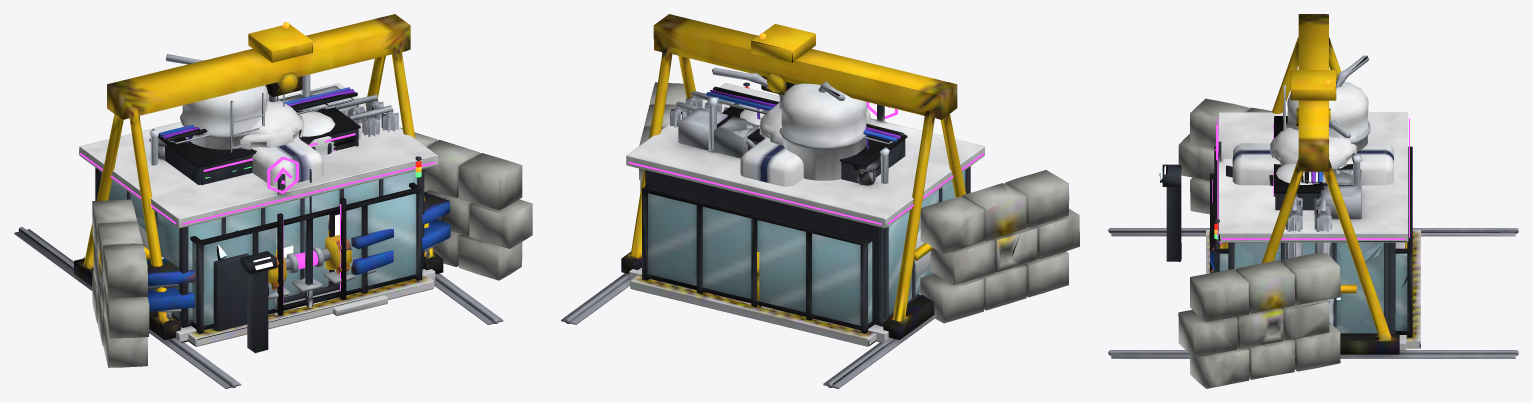
File: digital_decor_lab.glb
3 views of the same model, side by side, from view 1: azimuth 30°, elevation 25°; view 2: azimuth 150°, elevation 25°; view 3: azimuth 270°, elevation 25° (orthographic). The views are drawn at different scales.
Visible parts, largest first — view 1: Accelerator, ControlRoom, Gantry, ArmCell, Tank_A, Scanner, Servers_B, Pod, Tank_B, Servers_A; view 2: ArmCell, ControlRoom, Gantry, Accelerator, Tank_A, Servers_B, Scanner, Pod, Tank_B, Servers_A; view 3: Accelerator, ControlRoom, Gantry, ArmCell, Scanner, Tank_A, Pod, Tank_B, Servers_B.
Part boxes in pixels (left/top/right/bottom): Accelerator: left=92, top=127, right=532, bottom=367; ControlRoom: left=79, top=83, right=438, bottom=342; Gantry: left=14, top=14, right=503, bottom=388; ArmCell: left=83, top=156, right=434, bottom=353; Tank_A: left=180, top=74, right=335, bottom=155; Scanner: left=212, top=101, right=323, bottom=331; Servers_B: left=158, top=87, right=360, bottom=213; Pod: left=165, top=54, right=304, bottom=149; Tank_B: left=138, top=94, right=398, bottom=249; Servers_A: left=187, top=95, right=333, bottom=178; ArmCell: left=630, top=82, right=876, bottom=346; ControlRoom: left=626, top=83, right=984, bottom=342; Gantry: left=561, top=14, right=965, bottom=388; Accelerator: left=639, top=82, right=1079, bottom=323; Tank_A: left=707, top=83, right=867, bottom=180; Servers_B: left=706, top=86, right=907, bottom=183; Scanner: left=707, top=109, right=870, bottom=186; Pod: left=711, top=67, right=845, bottom=145; Tank_B: left=670, top=91, right=930, bottom=275; Servers_A: left=733, top=94, right=876, bottom=143; Accelerator: left=1178, top=98, right=1340, bottom=388; ControlRoom: left=1215, top=112, right=1409, bottom=349; Gantry: left=1108, top=14, right=1518, bottom=358; ArmCell: left=1159, top=146, right=1420, bottom=348; Scanner: left=1232, top=143, right=1393, bottom=206; Tank_A: left=1273, top=80, right=1370, bottom=196; Pod: left=1270, top=55, right=1369, bottom=169; Tank_B: left=1285, top=190, right=1333, bottom=324; Servers_B: left=1226, top=116, right=1352, bottom=210.
Bounding box in the file's own units: 4.84 × 2.65 × 4.26.
7 materials, 1 textured.
